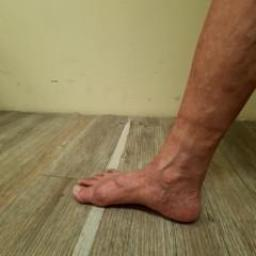Medial View -Right Foot-: (59, 103, 230, 239)
